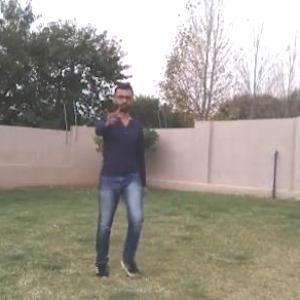takeoff-hand: (98, 97, 124, 130)
